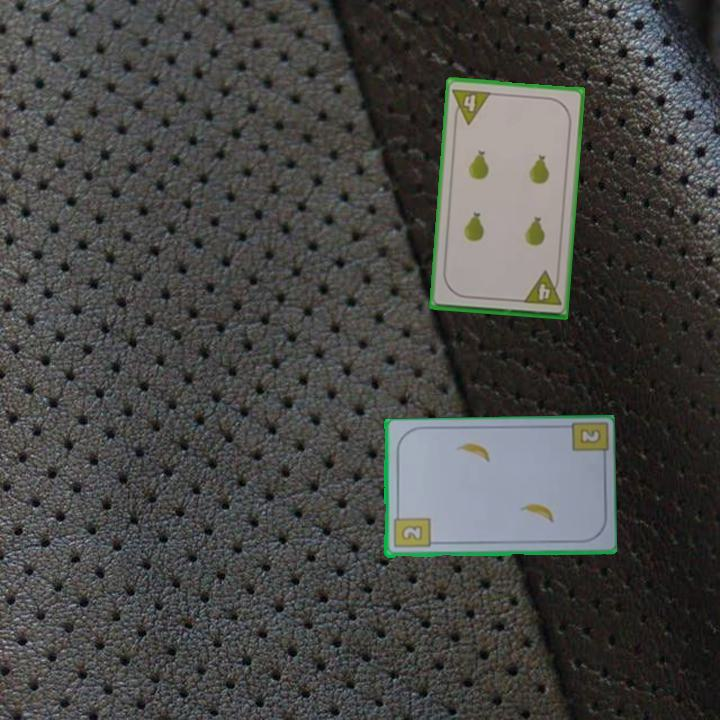2b: (390, 509, 432, 551), (578, 428, 601, 445)
4p: (449, 85, 494, 127), (519, 268, 564, 308)
